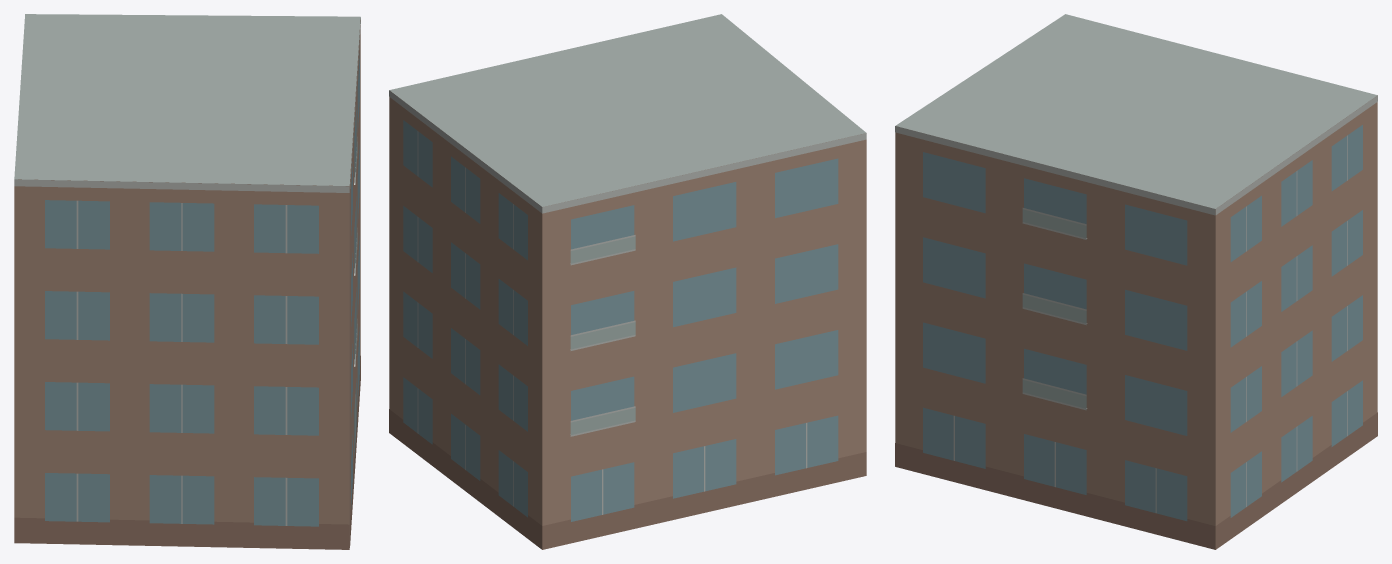
Rendered from survey-upis-33036176.glb.
3 renders of one model, left to right at view 1: azimuth 30°, elevation 25°; view 2: azimuth 150°, elevation 25°; view 3: azimuth 270°, elevation 25°, orthographic. The views are drawn at different scales.
Parts seen in each view (by area): view 1: survey-upis-33036176.tmp; view 2: survey-upis-33036176.tmp; view 3: survey-upis-33036176.tmp.
Part boxes in pixels (left/top/right/bottom): survey-upis-33036176.tmp: left=14, top=14, right=360, bottom=549; survey-upis-33036176.tmp: left=389, top=14, right=866, bottom=549; survey-upis-33036176.tmp: left=895, top=14, right=1377, bottom=549.
Size of the model in its own units: 15.64 by 12.74 by 16.36.
